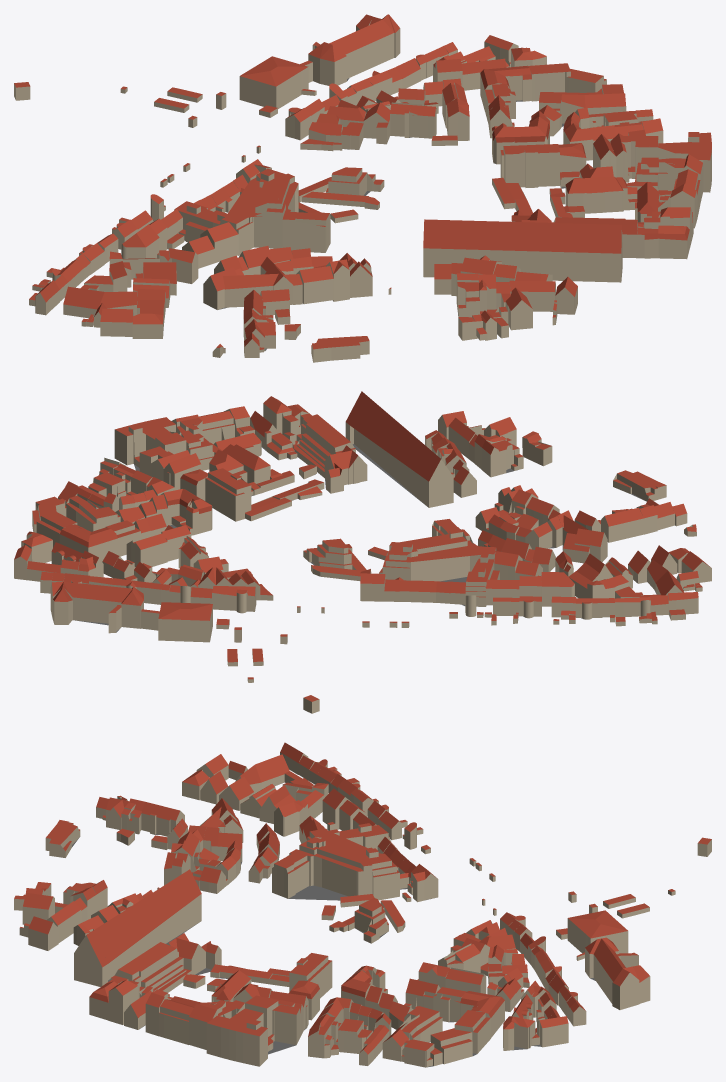
Rendered from ingolstadt_250_lod2_buildings.obj.
The picture shows the model from 3 angles, top to bottom: view 1: azimuth 30°, elevation 25°; view 2: azimuth 150°, elevation 25°; view 3: azimuth 270°, elevation 25°; orthographic projection. The views are drawn at different scales.
Parts seen in each view (by area): view 1: bldg_DEBY_L2_4392457, bldg_DEBY_L2_4392429, bldg_DEBY_L2_4392664, bldg_DEBY_L2_4392673, bldg_DEBY_L2_4392422, bldg_DEBY_L2_4392490, bldg_DEBY_L2_4392859, bldg_DEBY_L2_4392470, bldg_DEBY_L2_4392874, bldg_DEBY_L2_4392474, bldg_DEBY_L2_52065731, bldg_DEBY_L2_4392476 (+47 smaller); view 2: bldg_DEBY_L2_4392457, bldg_DEBY_L2_4392429, bldg_DEBY_L2_4392664, bldg_DEBY_L2_4392470, bldg_DEBY_L2_4392673, bldg_DEBY_L2_4392461, bldg_DEBY_L2_4392490, bldg_DEBY_L2_4392422, bldg_DEBY_L2_4392460, bldg_DEBY_L2_4392476, bldg_DEBY_L2_4392528, bldg_DEBY_L2_52065731 (+51 smaller); view 3: bldg_DEBY_L2_4392429, bldg_DEBY_L2_4392457, bldg_DEBY_L2_4392470, bldg_DEBY_L2_4392664, bldg_DEBY_L2_4392461, bldg_DEBY_L2_4392474, bldg_DEBY_L2_4392673, bldg_DEBY_L2_4392476, bldg_DEBY_L2_4392495, bldg_DEBY_L2_52065731, bldg_DEBY_L2_4392460, bldg_DEBY_L2_4392490 (+46 smaller).
Part boxes in pixels (left/top/right/bottom): bldg_DEBY_L2_4392457: left=423, top=219, right=622, bottom=282; bldg_DEBY_L2_4392429: left=174, top=168, right=330, bottom=255; bldg_DEBY_L2_4392664: left=308, top=14, right=400, bottom=85; bldg_DEBY_L2_4392673: left=239, top=56, right=308, bottom=108; bldg_DEBY_L2_4392422: left=203, top=267, right=302, bottom=309; bldg_DEBY_L2_4392490: left=500, top=144, right=559, bottom=187; bldg_DEBY_L2_4392859: left=565, top=176, right=637, bottom=213; bldg_DEBY_L2_4392470: left=628, top=130, right=711, bottom=192; bldg_DEBY_L2_4392874: left=308, top=100, right=366, bottom=149; bldg_DEBY_L2_4392474: left=528, top=63, right=606, bottom=101; bldg_DEBY_L2_52065731: left=626, top=154, right=703, bottom=203; bldg_DEBY_L2_4392476: left=539, top=92, right=626, bottom=126; bldg_DEBY_L2_4392457: left=345, top=391, right=453, bottom=507; bldg_DEBY_L2_4392429: left=382, top=519, right=496, bottom=606; bldg_DEBY_L2_4392664: left=50, top=581, right=143, bottom=628; bldg_DEBY_L2_4392470: left=114, top=417, right=179, bottom=476; bldg_DEBY_L2_4392673: left=158, top=602, right=212, bottom=642; bldg_DEBY_L2_4392461: left=293, top=414, right=355, bottom=477; bldg_DEBY_L2_4392490: left=205, top=468, right=251, bottom=521; bldg_DEBY_L2_4392422: left=548, top=509, right=607, bottom=563; bldg_DEBY_L2_4392460: left=324, top=445, right=367, bottom=493; bldg_DEBY_L2_4392476: left=58, top=486, right=120, bottom=531; bldg_DEBY_L2_4392528: left=59, top=524, right=117, bottom=561; bldg_DEBY_L2_52065731: left=171, top=414, right=222, bottom=470; bldg_DEBY_L2_4392429: left=272, top=823, right=399, bottom=900; bldg_DEBY_L2_4392457: left=74, top=869, right=201, bottom=986; bldg_DEBY_L2_4392470: left=206, top=998, right=299, bottom=1066; bldg_DEBY_L2_4392664: left=585, top=937, right=639, bottom=1009; bldg_DEBY_L2_4392461: left=110, top=942, right=191, bottom=997; bldg_DEBY_L2_4392474: left=430, top=1010, right=490, bottom=1064; bldg_DEBY_L2_4392673: left=567, top=910, right=628, bottom=953; bldg_DEBY_L2_4392476: left=382, top=1006, right=442, bottom=1061; bldg_DEBY_L2_4392495: left=341, top=970, right=397, bottom=1017; bldg_DEBY_L2_52065731: left=189, top=1000, right=244, bottom=1049; bldg_DEBY_L2_4392460: left=167, top=933, right=221, bottom=975; bldg_DEBY_L2_4392490: left=289, top=953, right=332, bottom=998.
Size of the model in its own units: 361 by 28.51 by 350.
